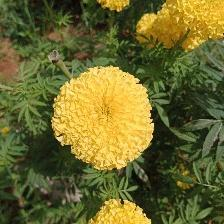marigold: (53, 66, 159, 169)
